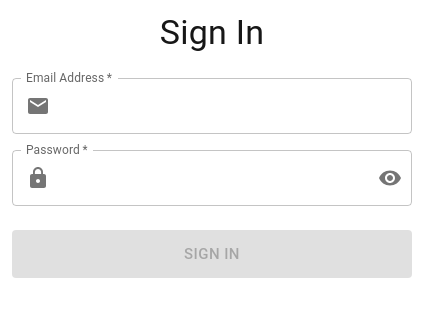
Test: EmailAuthForm › Form Validation › should validate email on blur
Click the field labelled "Email Address" at (235, 106), box [58,78,412,134]
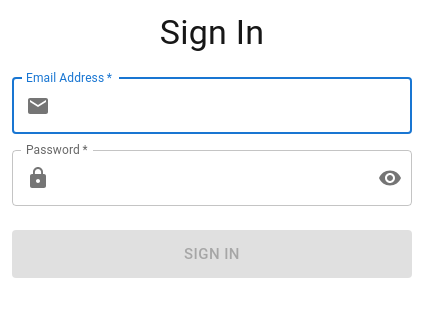
Press Tab
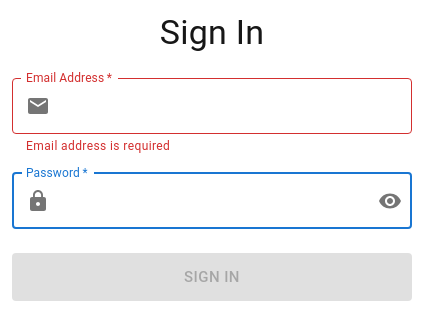
expect the text "Email address is required" is shown: met, box [26,139,170,153]
